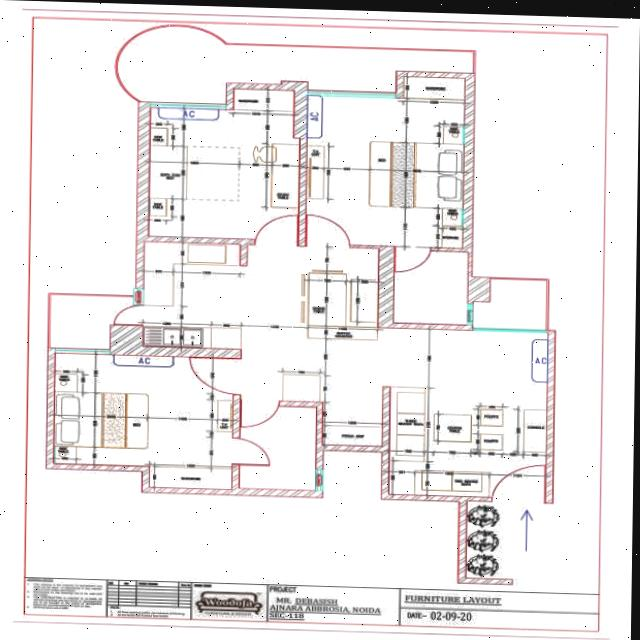room: (305, 77, 464, 246), (52, 354, 233, 489), (152, 89, 296, 239), (389, 385, 547, 498), (245, 247, 380, 363), (144, 244, 239, 349), (242, 406, 315, 490), (395, 250, 467, 325), (51, 295, 134, 349), (324, 402, 383, 445)
